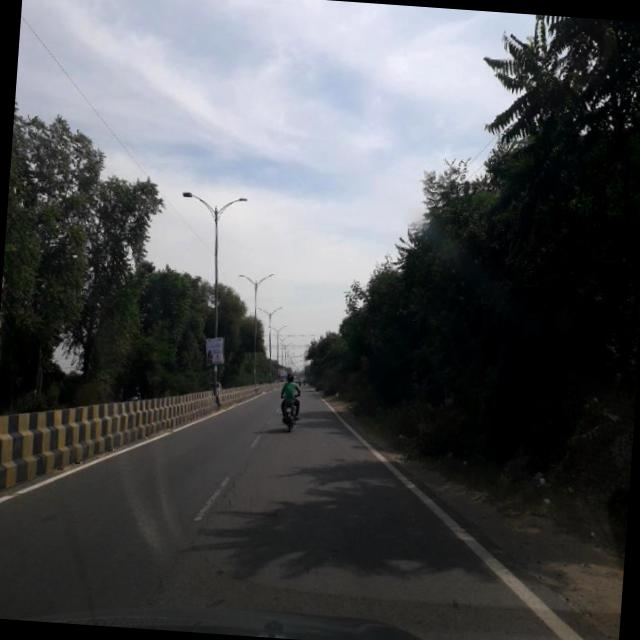pothole: (134, 435, 260, 612)
